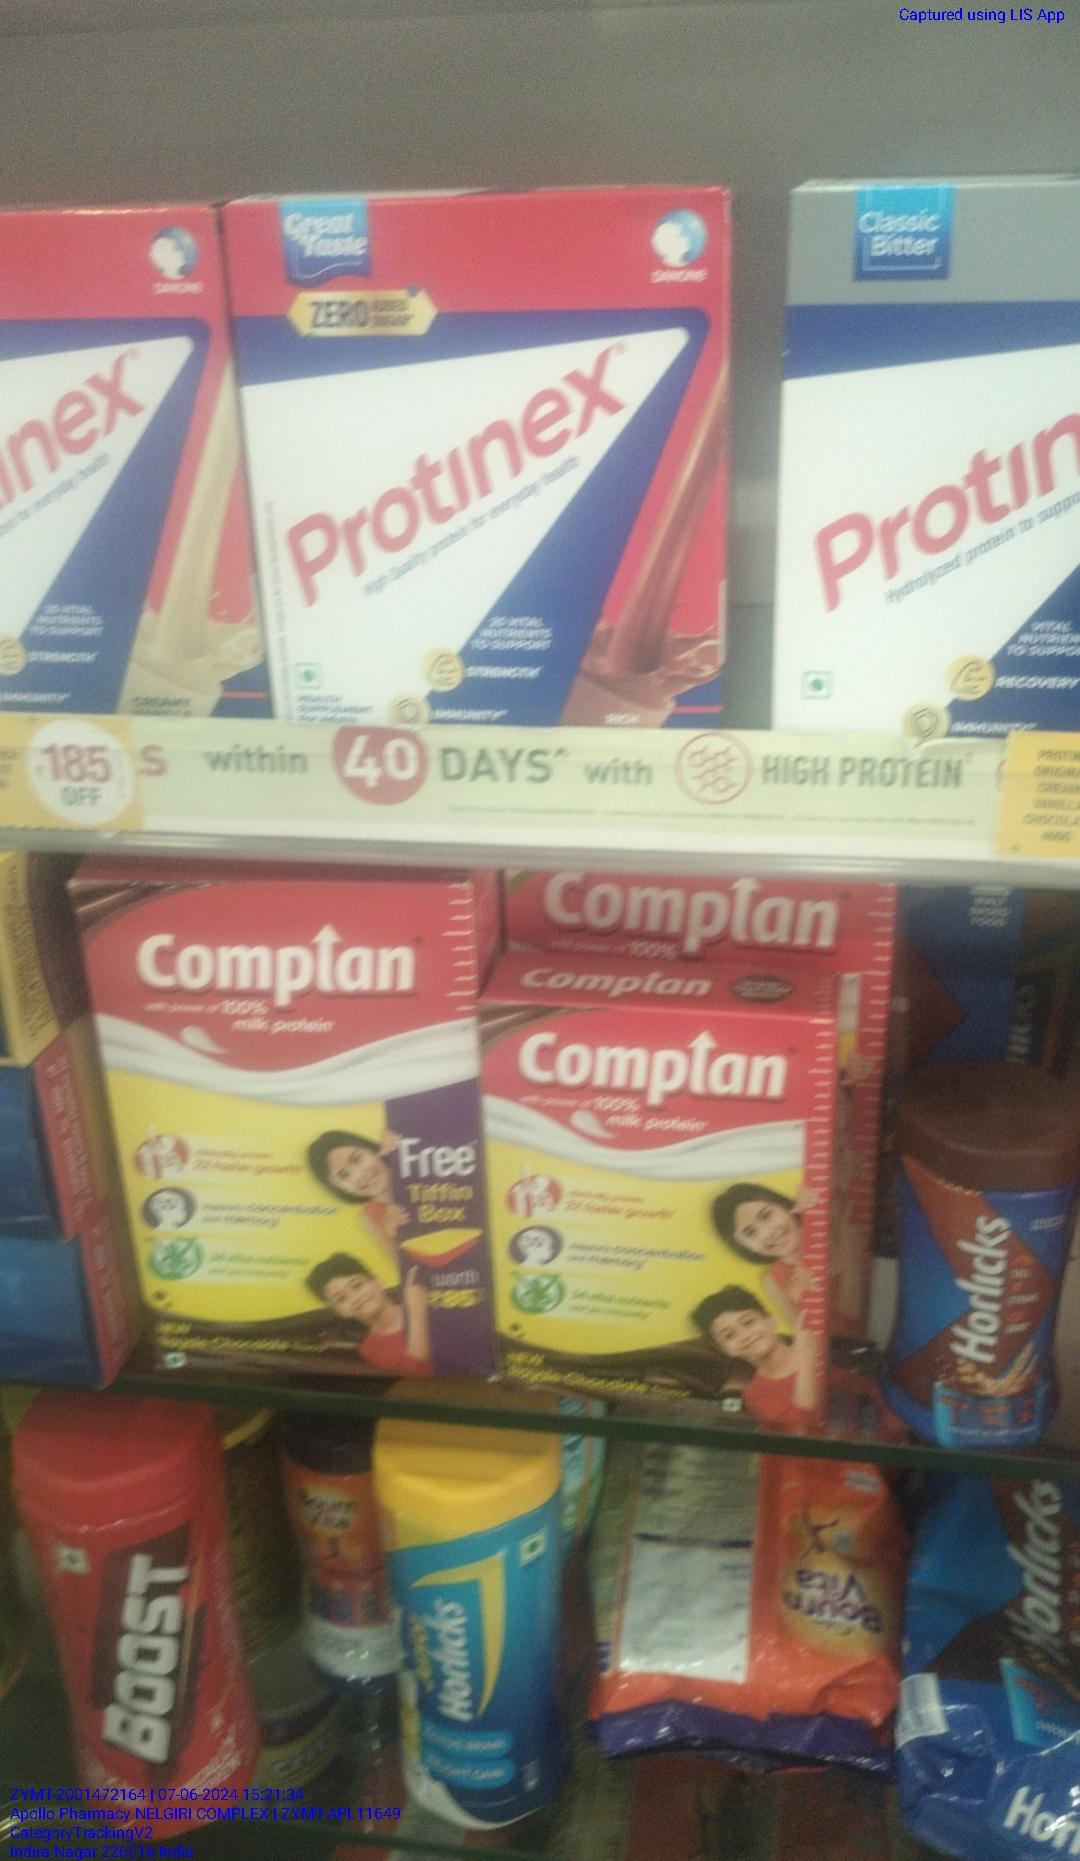COMPLAN_CHOCOLATE_200_GMS_PACK: (481, 1009, 814, 1434)
HORLICKS_JUNIOR_VANILLA_500_GM_JAR: (390, 1469, 582, 1861)
HORLICK_CHOCOLATE_200_G_JAR: (885, 1112, 1080, 1457)
